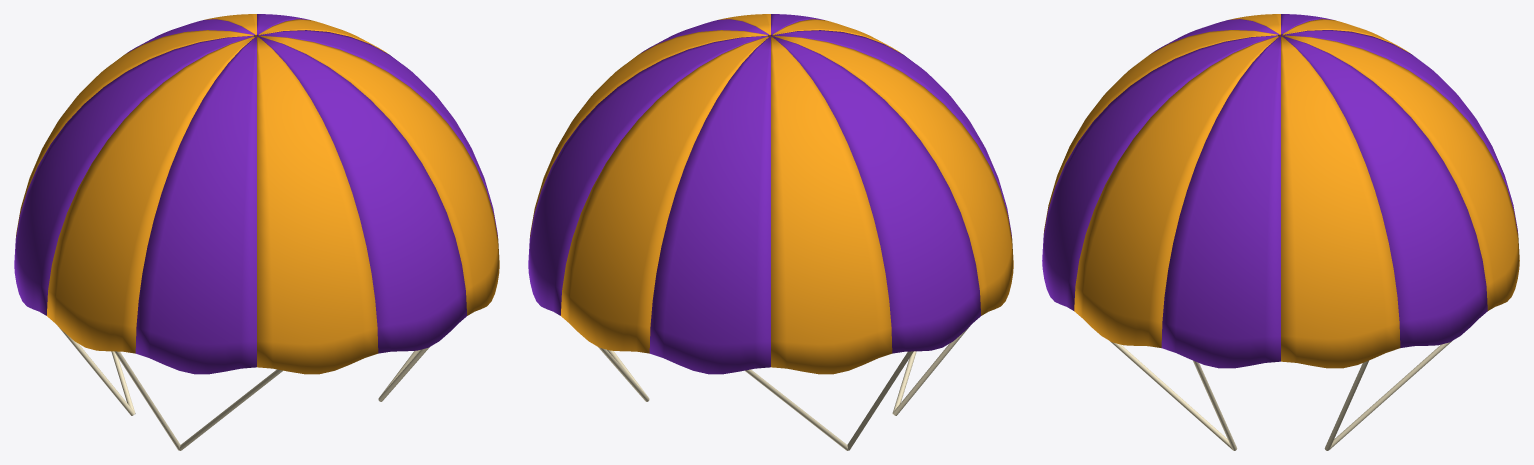
The model's file is parachute.glb.
The picture shows the model from 3 angles, left to right: view 1: azimuth 30°, elevation 25°; view 2: azimuth 150°, elevation 25°; view 3: azimuth 270°, elevation 25°; orthographic projection.
Parts seen in each view (by area): view 1: Canopy sector 10, Canopy sector 11, Canopy sector 00, Canopy sector 09, Canopy sector 01, Canopy sector 08, Canopy sector 02, Canopy sector 07, Canopy sector 03, Canopy sector 06, Ivory suspension line 07, Ivory suspension line 06 (+1 smaller); view 2: Canopy sector 06, Canopy sector 07, Canopy sector 05, Canopy sector 08, Canopy sector 04, Canopy sector 09, Canopy sector 03, Canopy sector 10, Canopy sector 02, Canopy sector 11, Ivory suspension line 04, Ivory suspension line 05 (+1 smaller); view 3: Canopy sector 02, Canopy sector 03, Canopy sector 01, Canopy sector 04, Canopy sector 00, Canopy sector 05, Canopy sector 06, Canopy sector 11, Ivory suspension line 00, Ivory suspension line 03, Canopy sector 07, Canopy sector 10 (+2 smaller).
Part boxes in pixels (box(x1,y1,x2,y2)): Canopy sector 10: box(135, 37, 256, 374); Canopy sector 11: box(257, 37, 378, 374); Canopy sector 00: box(259, 36, 467, 353); Canopy sector 09: box(46, 36, 254, 353); Canopy sector 01: box(260, 35, 499, 315); Canopy sector 08: box(14, 35, 253, 315); Canopy sector 02: box(260, 30, 498, 238); Canopy sector 07: box(15, 30, 253, 238); Canopy sector 03: box(258, 19, 387, 53); Canopy sector 06: box(126, 19, 255, 53); Ivory suspension line 07: box(179, 369, 282, 450); Ivory suspension line 06: box(114, 351, 180, 450); Canopy sector 06: box(649, 37, 770, 374); Canopy sector 07: box(771, 37, 892, 374); Canopy sector 05: box(560, 36, 768, 353); Canopy sector 08: box(773, 36, 981, 353); Canopy sector 04: box(528, 35, 767, 315); Canopy sector 09: box(774, 35, 1013, 315); Canopy sector 03: box(529, 30, 767, 238); Canopy sector 10: box(774, 30, 1012, 238); Canopy sector 02: box(640, 19, 769, 53); Canopy sector 11: box(772, 19, 901, 53); Ivory suspension line 04: box(745, 369, 848, 450); Ivory suspension line 05: box(847, 351, 913, 450); Canopy sector 02: box(1161, 36, 1280, 368); Canopy sector 03: box(1281, 36, 1400, 368); Canopy sector 01: box(1074, 36, 1278, 347); Canopy sector 04: box(1283, 36, 1487, 347); Canopy sector 00: box(1042, 35, 1277, 310); Canopy sector 05: box(1284, 35, 1519, 310); Canopy sector 06: box(1284, 30, 1518, 234); Canopy sector 11: box(1043, 30, 1277, 234); Ivory suspension line 00: box(1110, 341, 1232, 449); Ivory suspension line 03: box(1329, 341, 1451, 449); Canopy sector 07: box(1282, 19, 1410, 53); Canopy sector 10: box(1151, 19, 1279, 53).
Bounding box in the file's own units: 1.88 × 1.59 × 1.88.
